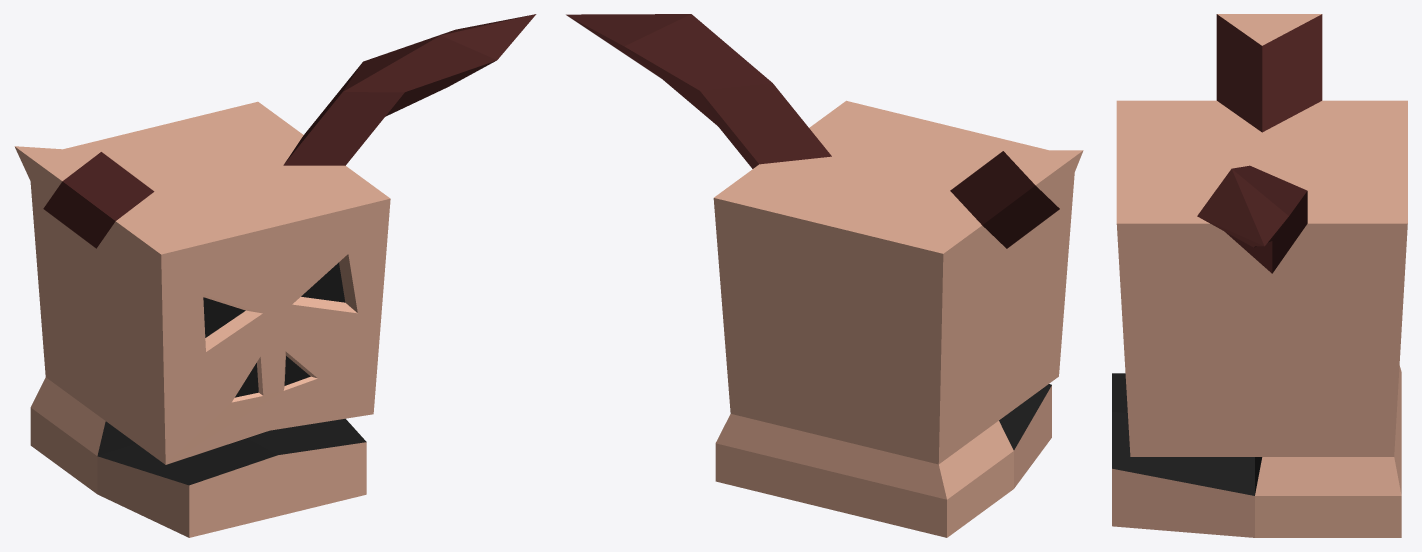
The model's file is hell_flora_1.fbx.
3 renders of one model, left to right at view 1: azimuth 30°, elevation 25°; view 2: azimuth 150°, elevation 25°; view 3: azimuth 270°, elevation 25°, orthographic. The views are drawn at different scales.
Parts seen in each view (by area): view 1: hell_flora_1; view 2: hell_flora_1; view 3: hell_flora_1.
Part boxes in pixels (bbox=[...]): hell_flora_1: bbox=[14, 14, 536, 537]; hell_flora_1: bbox=[566, 14, 1083, 537]; hell_flora_1: bbox=[1112, 14, 1407, 537].
Bounding box in the file's own units: 4.77 × 2.24 × 3.57.
